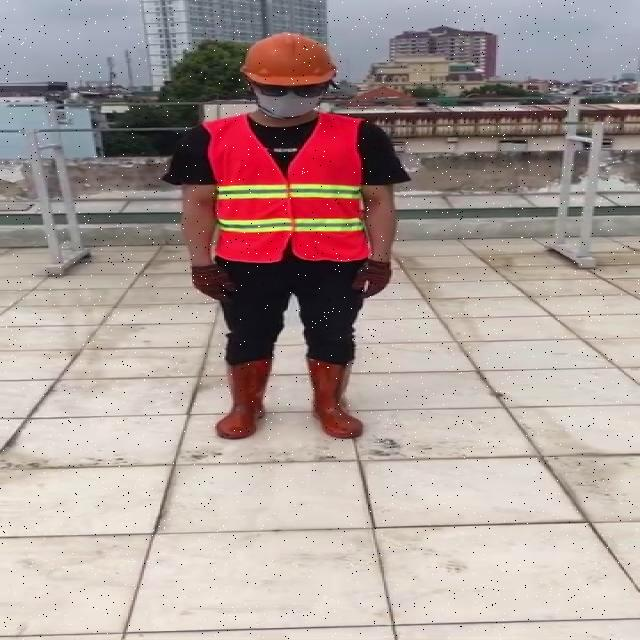Hard_hat: (237, 29, 343, 92)
Person: (157, 26, 414, 456)
Vest: (209, 113, 370, 264)
